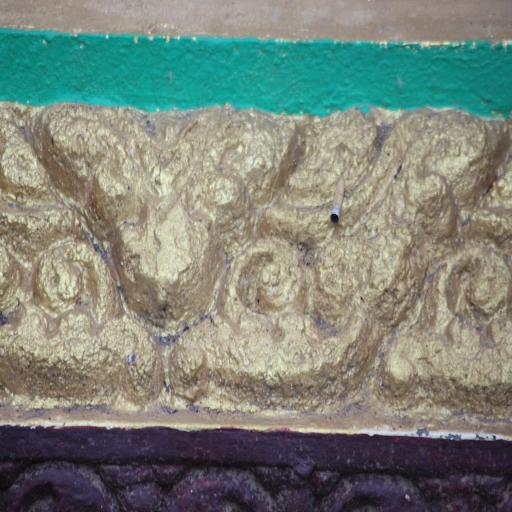la: (6, 113, 512, 428)
